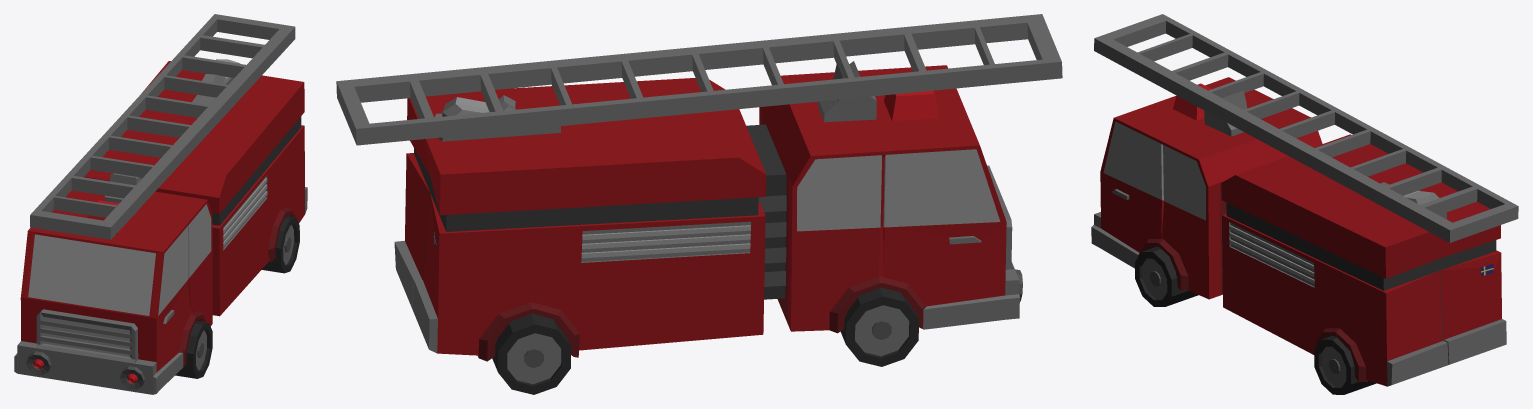
The model's file is firetruck.fbx.
3 views of the same model, side by side, from view 1: azimuth 30°, elevation 25°; view 2: azimuth 150°, elevation 25°; view 3: azimuth 270°, elevation 25° (orthographic). The views are drawn at different scales.
Visible parts, largest first — view 1: firetruck_mesh, ladder, tires_front, tires_back, lamps; view 2: firetruck_mesh, ladder, tires_back, tires_front, lamps; view 3: firetruck_mesh, ladder, tires_front, tires_back, lamps.
Boxes of the visible parts, x1,y1,x2,y2 form: firetruck_mesh: (14,59,307,394); ladder: (30,14,295,239); tires_front: (175,320,212,378); tires_back: (262,216,299,273); lamps: (26,200,144,389); firetruck_mesh: (394,61,1019,361); ladder: (336,14,1062,145); tires_back: (492,314,571,394); tires_front: (840,287,918,366); lamps: (884,90,1022,301); firetruck_mesh: (1091,77,1506,386); ladder: (1094,14,1518,242); tires_front: (1135,246,1198,306); tires_back: (1314,336,1376,394); lamps: (1173,83,1211,120).
Size of the model in its own units: 185 by 87.44 by 163.
